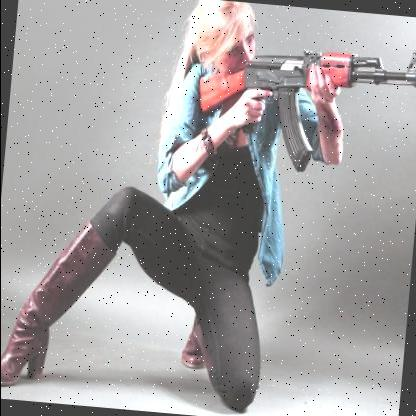rifle: (192, 34, 416, 182)
